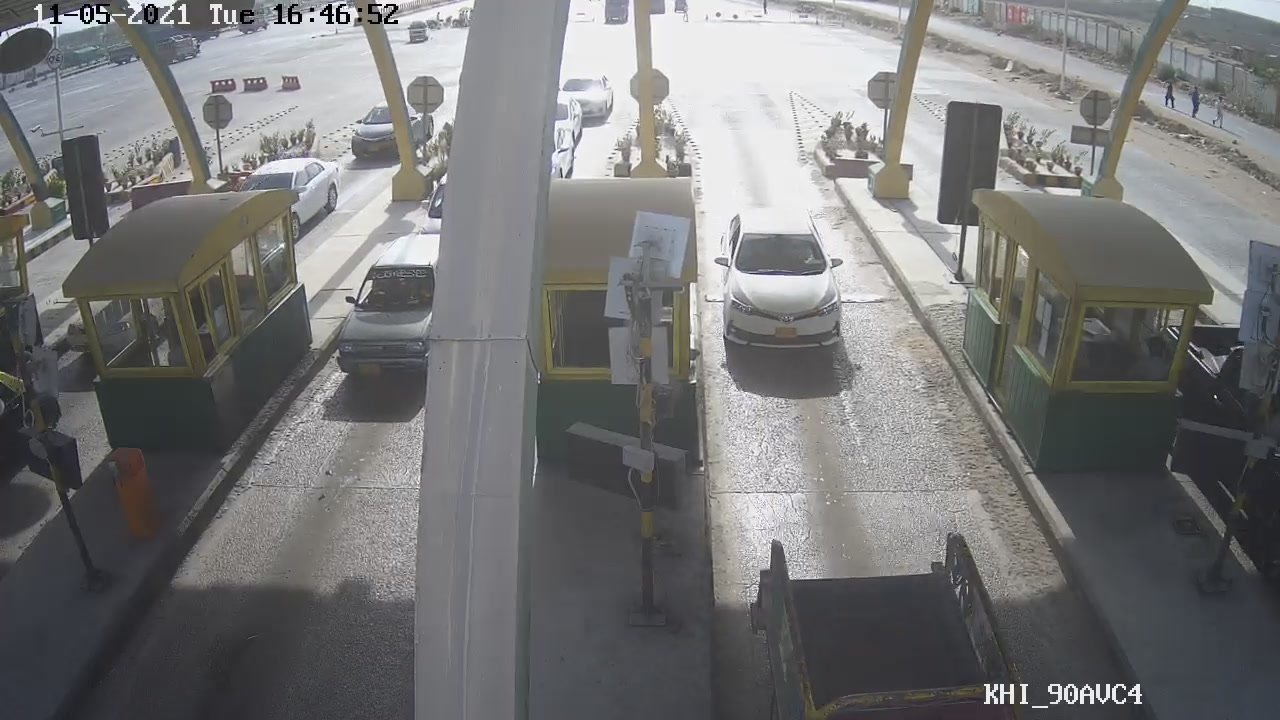F1: (715, 212, 848, 359)
